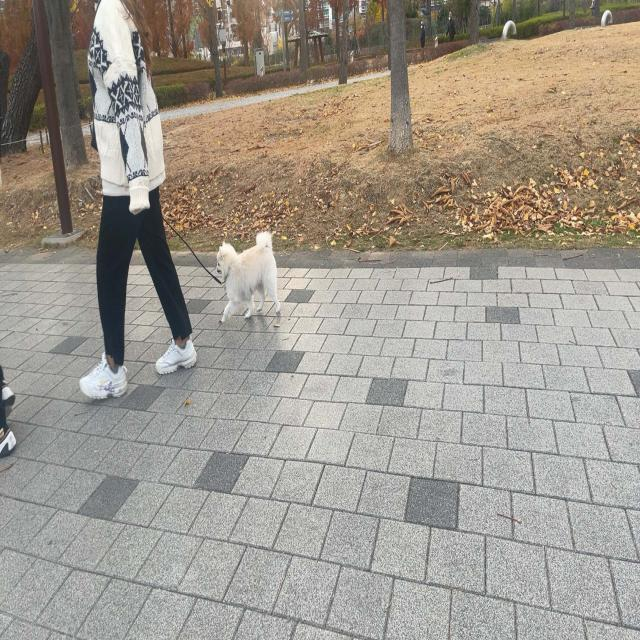Leashed_Dog: (140, 171, 281, 324)
